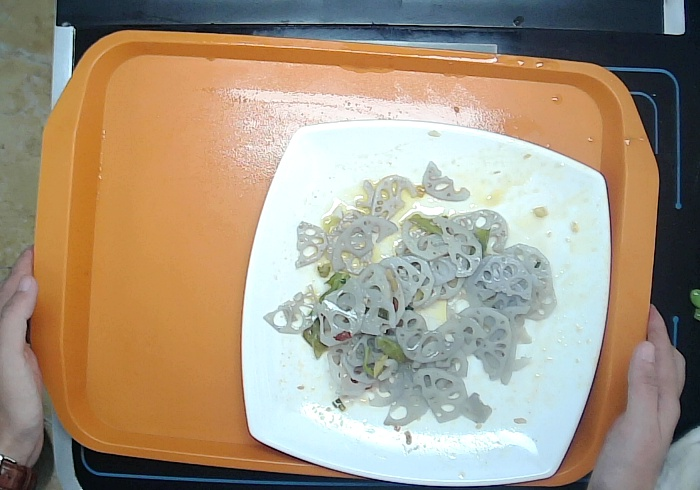ZNLD-Bai_Fang_Pan: (239, 114, 611, 490)
